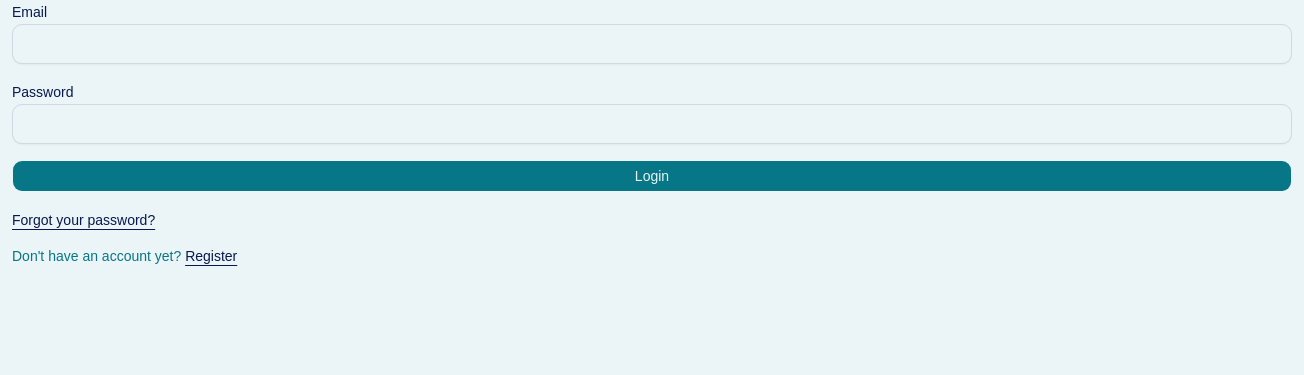
Test: LoginForm › shows api field errors for email and password
This screenshot has width=1304, height=375.
Type "test@example.com" into the field labelled "Email". click: (652, 44)
box: [12,24,1292,64]
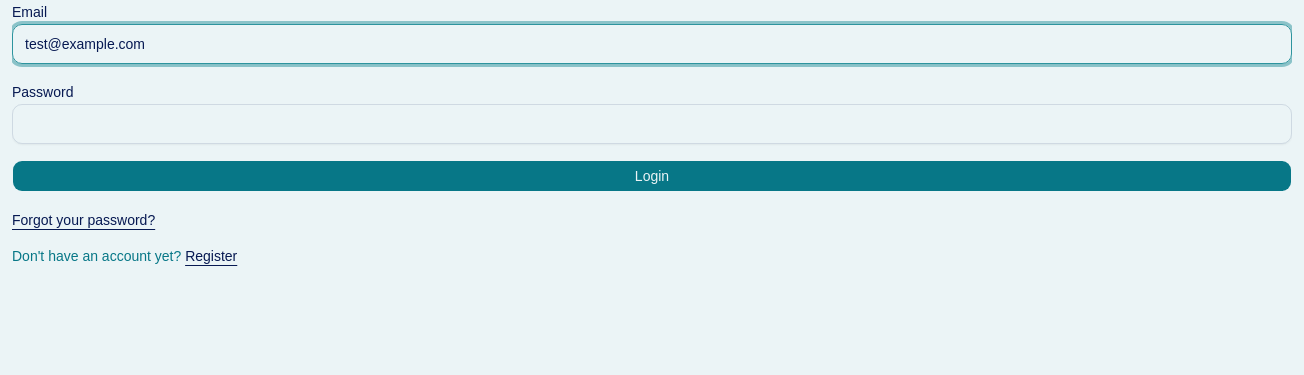
Type "wrongpass" into the password field labelled "Password". click: (652, 124)
box: [12,104,1292,144]
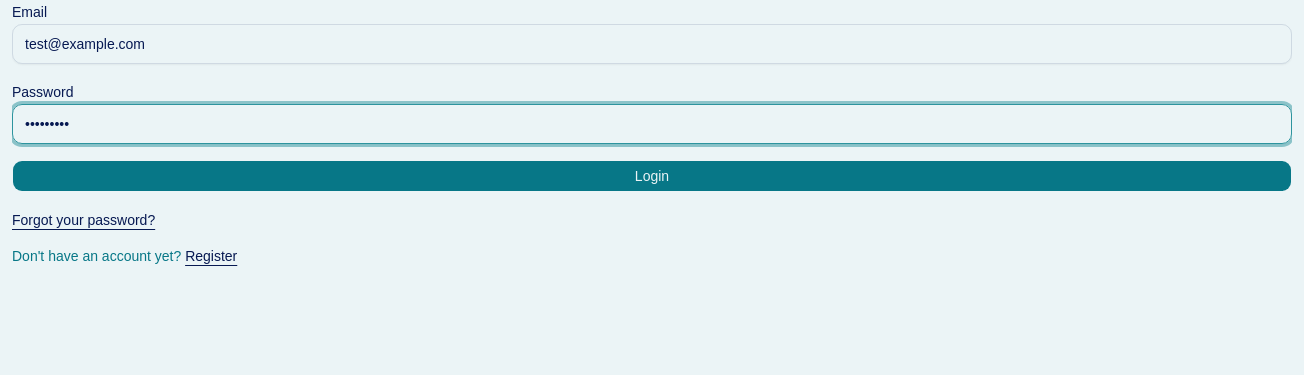
Click the button "Login". click: (652, 176)
box: [12,160,1292,192]
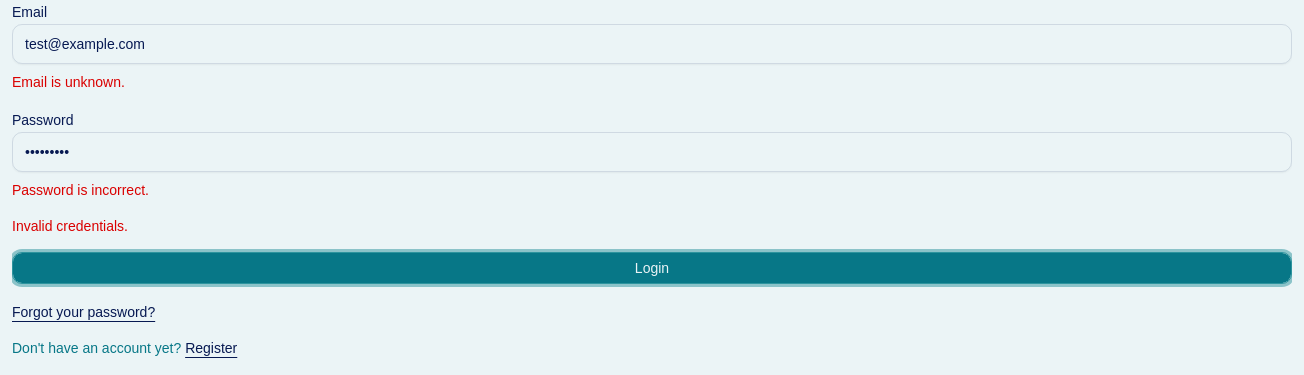
expect the text "Email is unknown." is shown: met, box [12,74,125,90]
expect the text "Password is incorrect." is shown: met, box [12,182,149,198]
expect the text "Invalid credentials." is shown: met, box [12,218,128,234]
